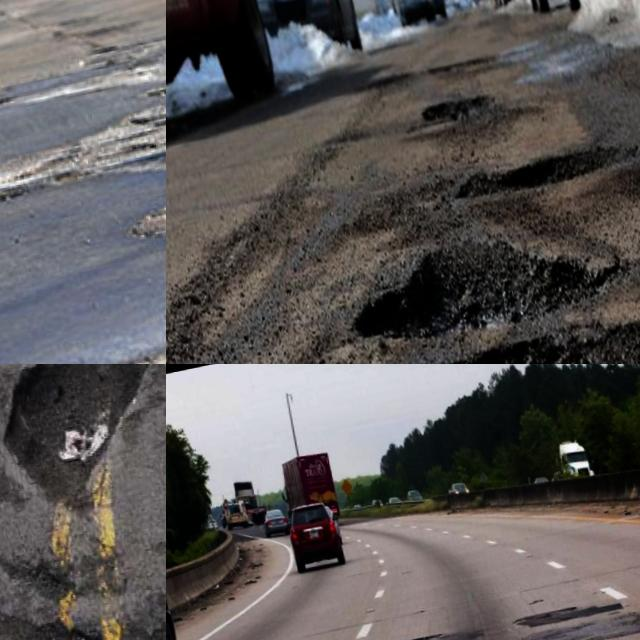Potholes: (296, 187, 635, 364), (0, 0, 166, 229), (0, 364, 166, 556), (439, 117, 634, 264), (89, 19, 166, 364), (492, 556, 640, 640), (399, 87, 508, 168), (420, 36, 513, 121)
